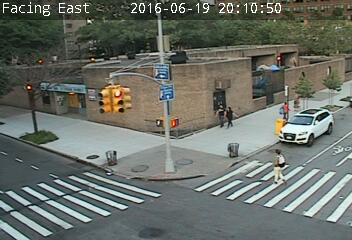neg: (21, 159, 52, 200), (34, 93, 63, 131), (98, 148, 121, 179), (162, 140, 185, 170), (207, 46, 229, 75), (259, 55, 279, 82), (199, 178, 219, 204), (161, 43, 179, 68), (113, 85, 131, 109), (300, 71, 318, 95), (80, 66, 98, 90), (33, 59, 50, 83), (156, 194, 173, 217), (230, 139, 245, 159)
pos: (266, 145, 296, 185), (223, 103, 242, 128), (209, 104, 228, 129), (278, 98, 293, 120)
